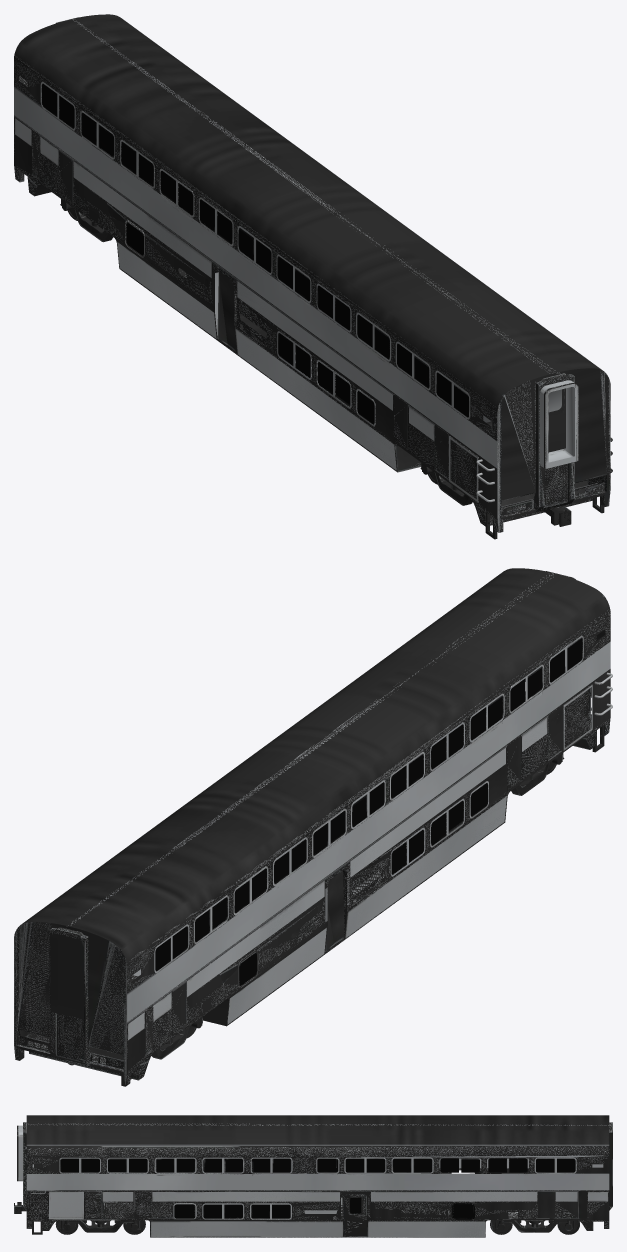
File: amtrack_car.glb
3 views of the same model, one above another, from view 1: azimuth 30°, elevation 25°; view 2: azimuth 150°, elevation 25°; view 3: azimuth 270°, elevation 25° (orthographic). The views are drawn at different scales.
Parts seen in each view (by area): view 1: metra_car; view 2: metra_car; view 3: metra_car.
Boxes of the visible parts, x1=… form: metra_car: x1=14, y1=14, x2=612, y2=539; metra_car: x1=14, y1=568, x2=612, y2=1086; metra_car: x1=14, y1=1115, x2=612, y2=1237.
Size of the model in its own units: 2.08 by 2.65 by 14.18.
Materials: 1 (1 with a texture image).
